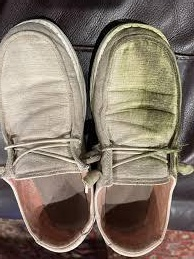earth: (139, 47, 174, 133)
